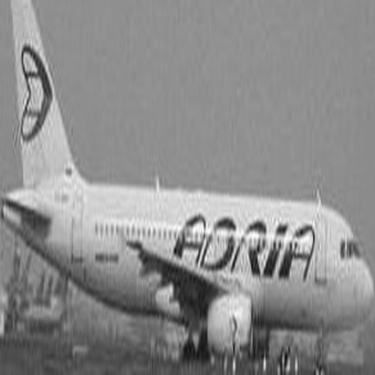airplane: (2, 4, 373, 373)
